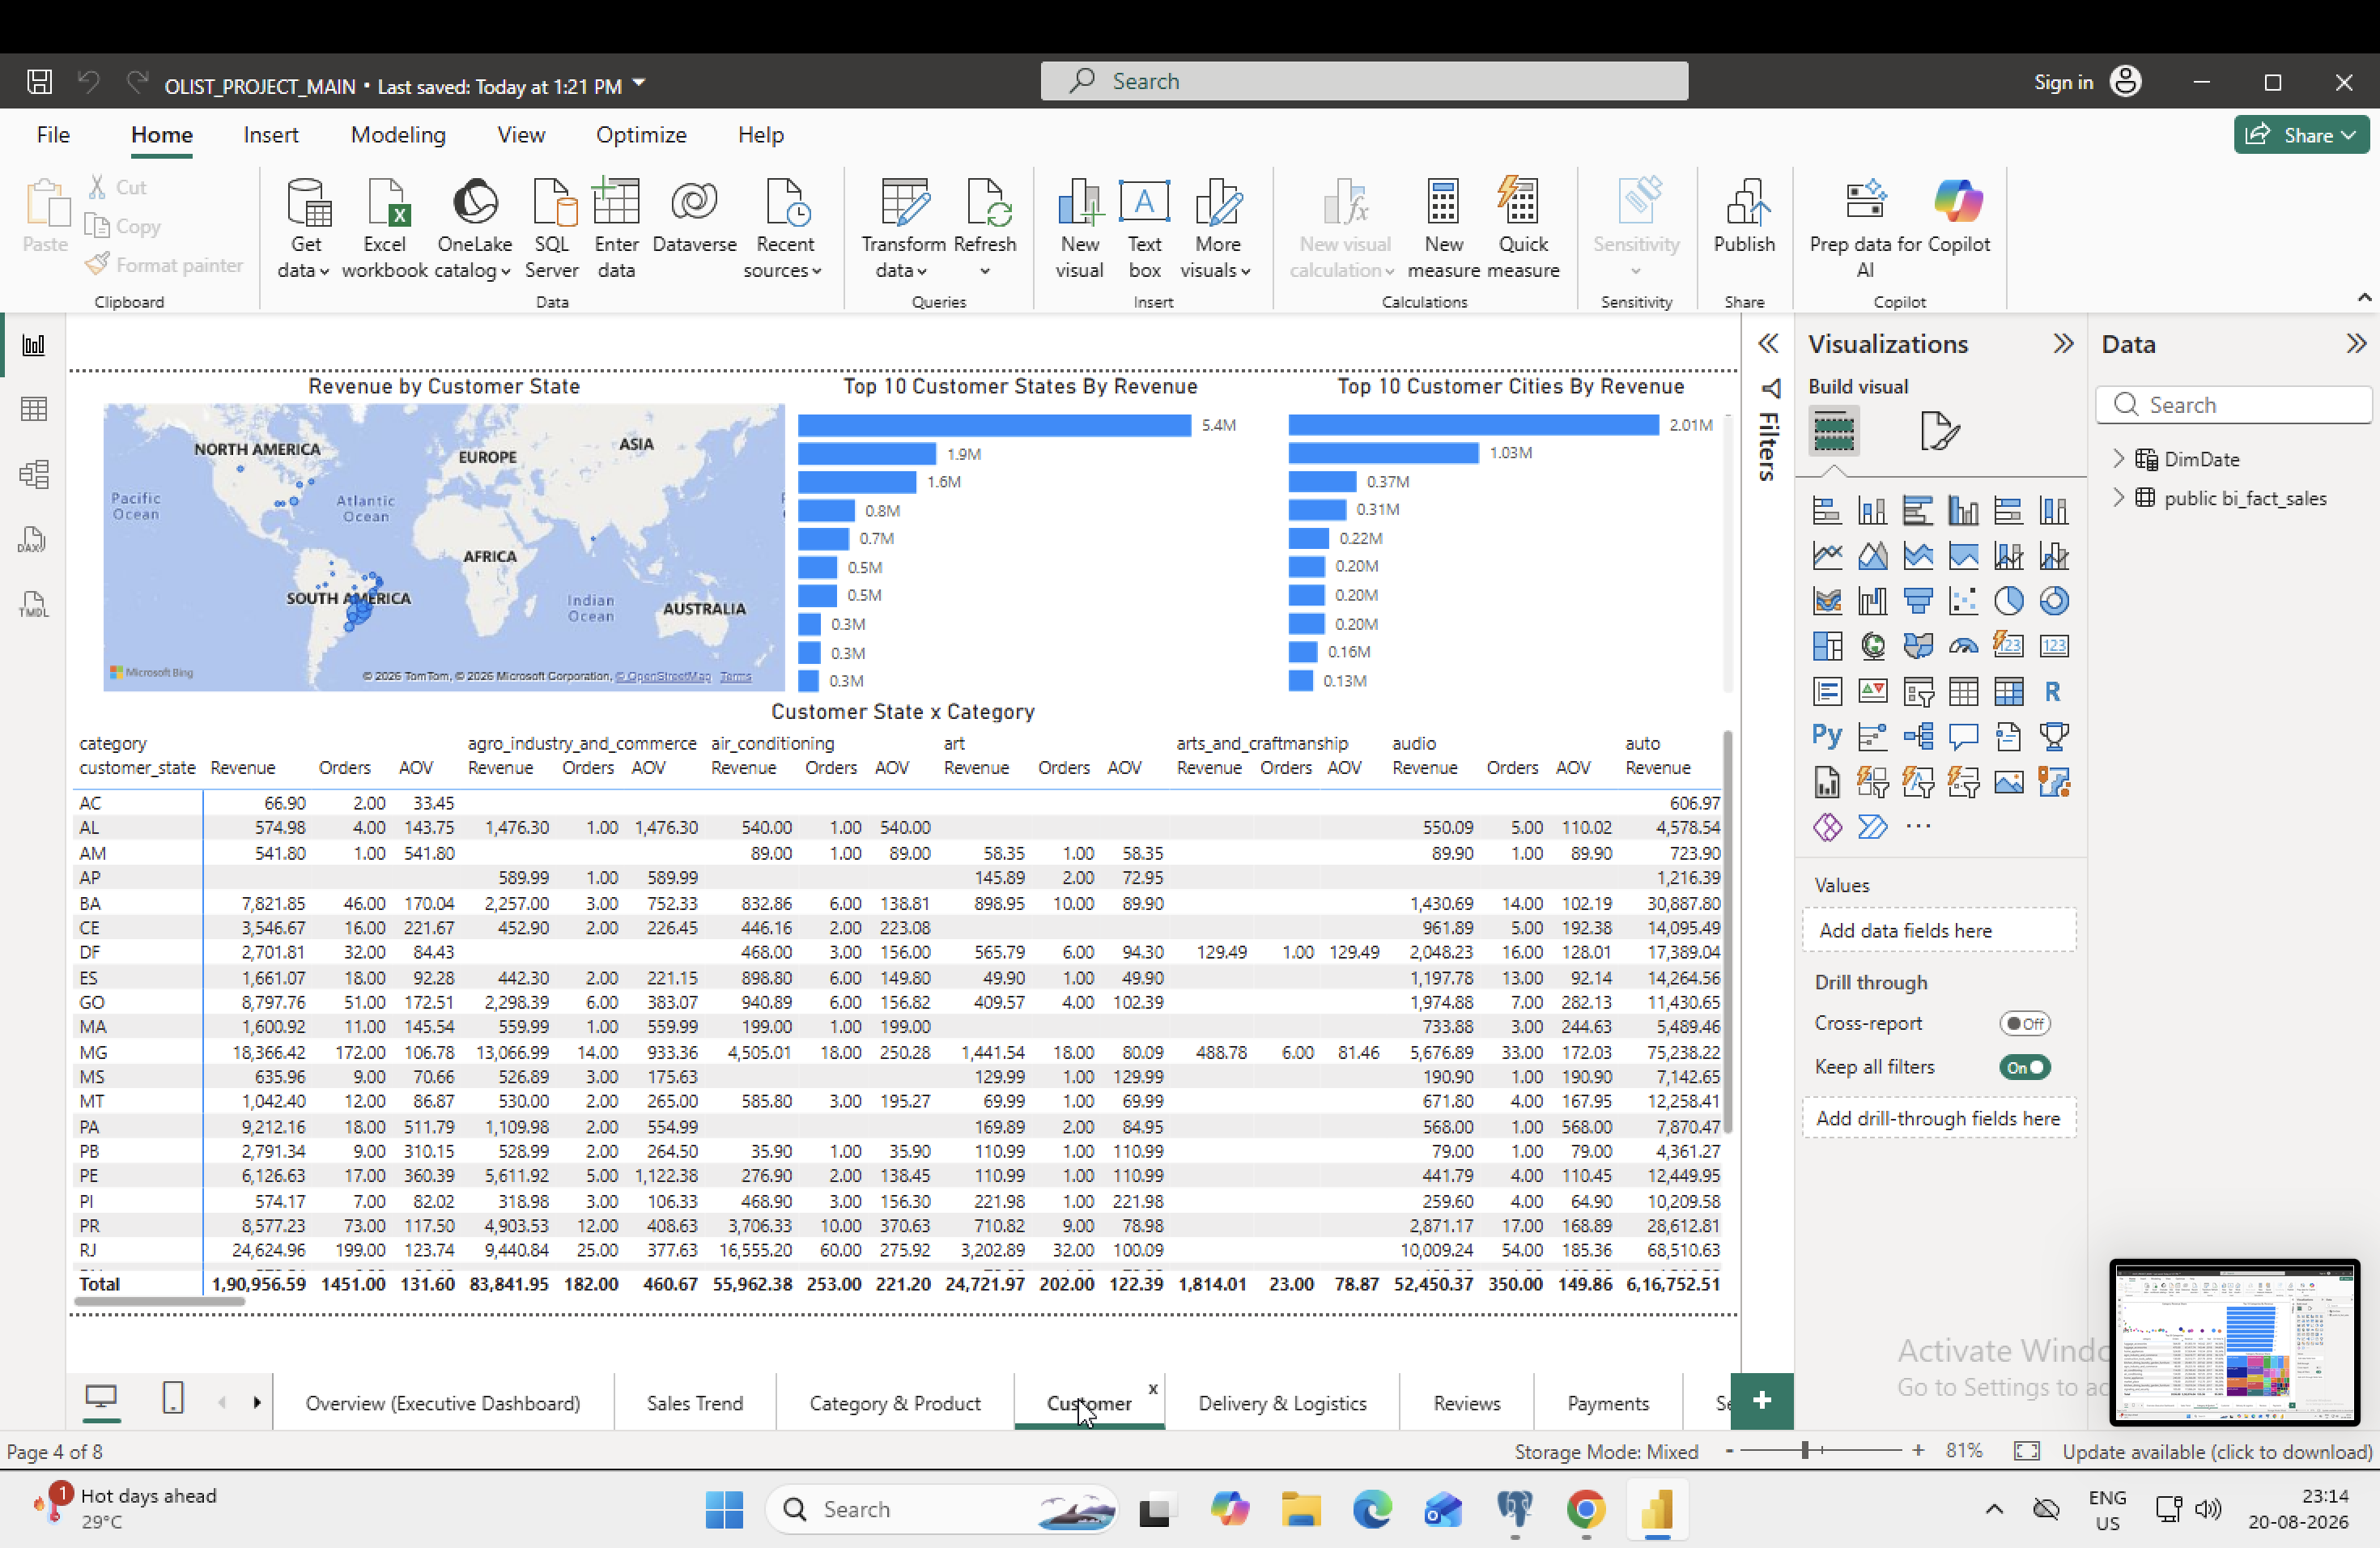

This screenshot's page, from the dashboard's own definition file:
{"tool":"powerbi","page":{"name":"Customer","canvas":[1280,720],"ordinal":3},"visuals":[{"type":"map","title":"Revenue by Customer State","fields":{"Category":["public bi_fact_sales.customer_state"],"Size":["public bi_fact_sales.Revenue"]},"box":[23.5,0,531,249.3],"z":0},{"type":"barChart","title":"Top 10 Customer States By Revenue","fields":{"Y":["public bi_fact_sales.Revenue"],"Category":["public bi_fact_sales.customer_state"]},"box":[554,0,350.2,250],"z":1000},{"type":"pivotTable","title":"Customer State x Category","fields":{"Rows":["public bi_fact_sales.customer_state"],"Values":["public bi_fact_sales.Revenue","public bi_fact_sales.Orders","public bi_fact_sales.AOV"],"Columns":["public bi_fact_sales.category"]},"box":[0,248.9,1280,471.4],"z":2000},{"type":"barChart","title":"Top 10 Customer Cities By Revenue","fields":{"Y":["public bi_fact_sales.Revenue"],"Category":["public bi_fact_sales.customer_city"]},"box":[929.8,0,350.2,250],"z":3000}]}

Visuals, with their boxes on the page's 1280x720 design canvas (x1, y1, x2, y2). These are canvas units, not pixel positions in the 2380x1548 screenshot, which may show the page scaled, cropped or inside an application window:
"Revenue by Customer State" map: (24,0,554,249)
"Top 10 Customer States By Revenue" barChart: (554,0,904,250)
"Customer State x Category" pivotTable: (0,249,1280,720)
"Top 10 Customer Cities By Revenue" barChart: (930,0,1280,250)
